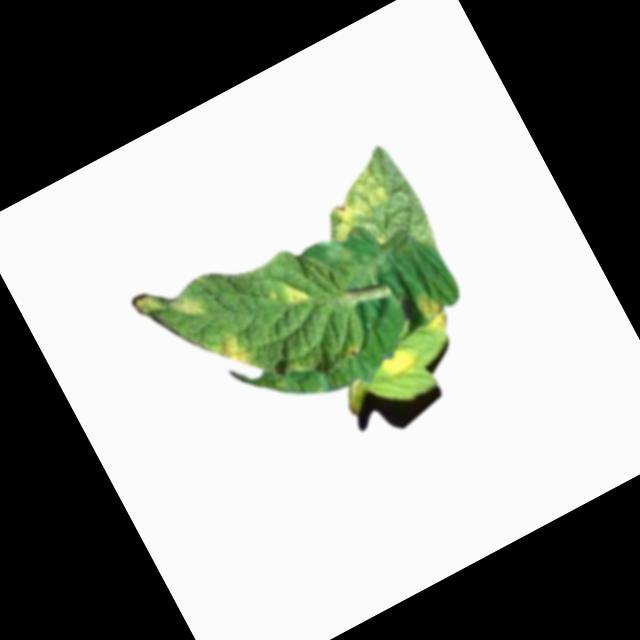Leaf_Mold: (313, 166, 396, 243), (412, 285, 459, 339), (376, 338, 428, 386), (209, 328, 255, 375), (276, 274, 316, 315), (130, 289, 164, 325), (172, 290, 204, 324)
